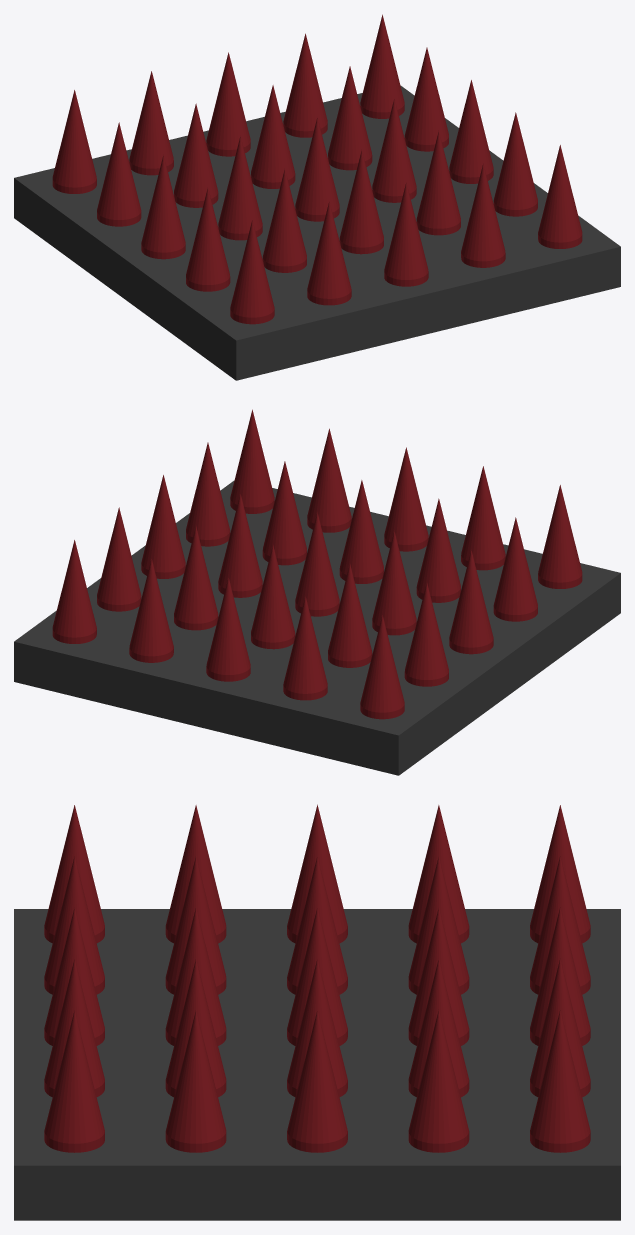
Rendered from Trape1.fbx.
The picture shows the model from 3 angles, top to bottom: view 1: azimuth 30°, elevation 25°; view 2: azimuth 150°, elevation 25°; view 3: azimuth 270°, elevation 25°; orthographic projection. The views are drawn at different scales.
Visible parts, largest first — view 1: Okrąg.016, Cube; view 2: Okrąg.016, Cube; view 3: Cube, Okrąg.016.
Part boxes in pixels (box(x1,y1,x2,y2)): Okrąg.016: box(52, 14, 582, 324); Cube: box(14, 85, 620, 380); Okrąg.016: box(52, 409, 582, 719); Cube: box(14, 480, 620, 775); Cube: box(14, 909, 620, 1220); Okrąg.016: box(44, 804, 590, 1152).
Bounding box in the file's own units: 400 × 135 × 400.
